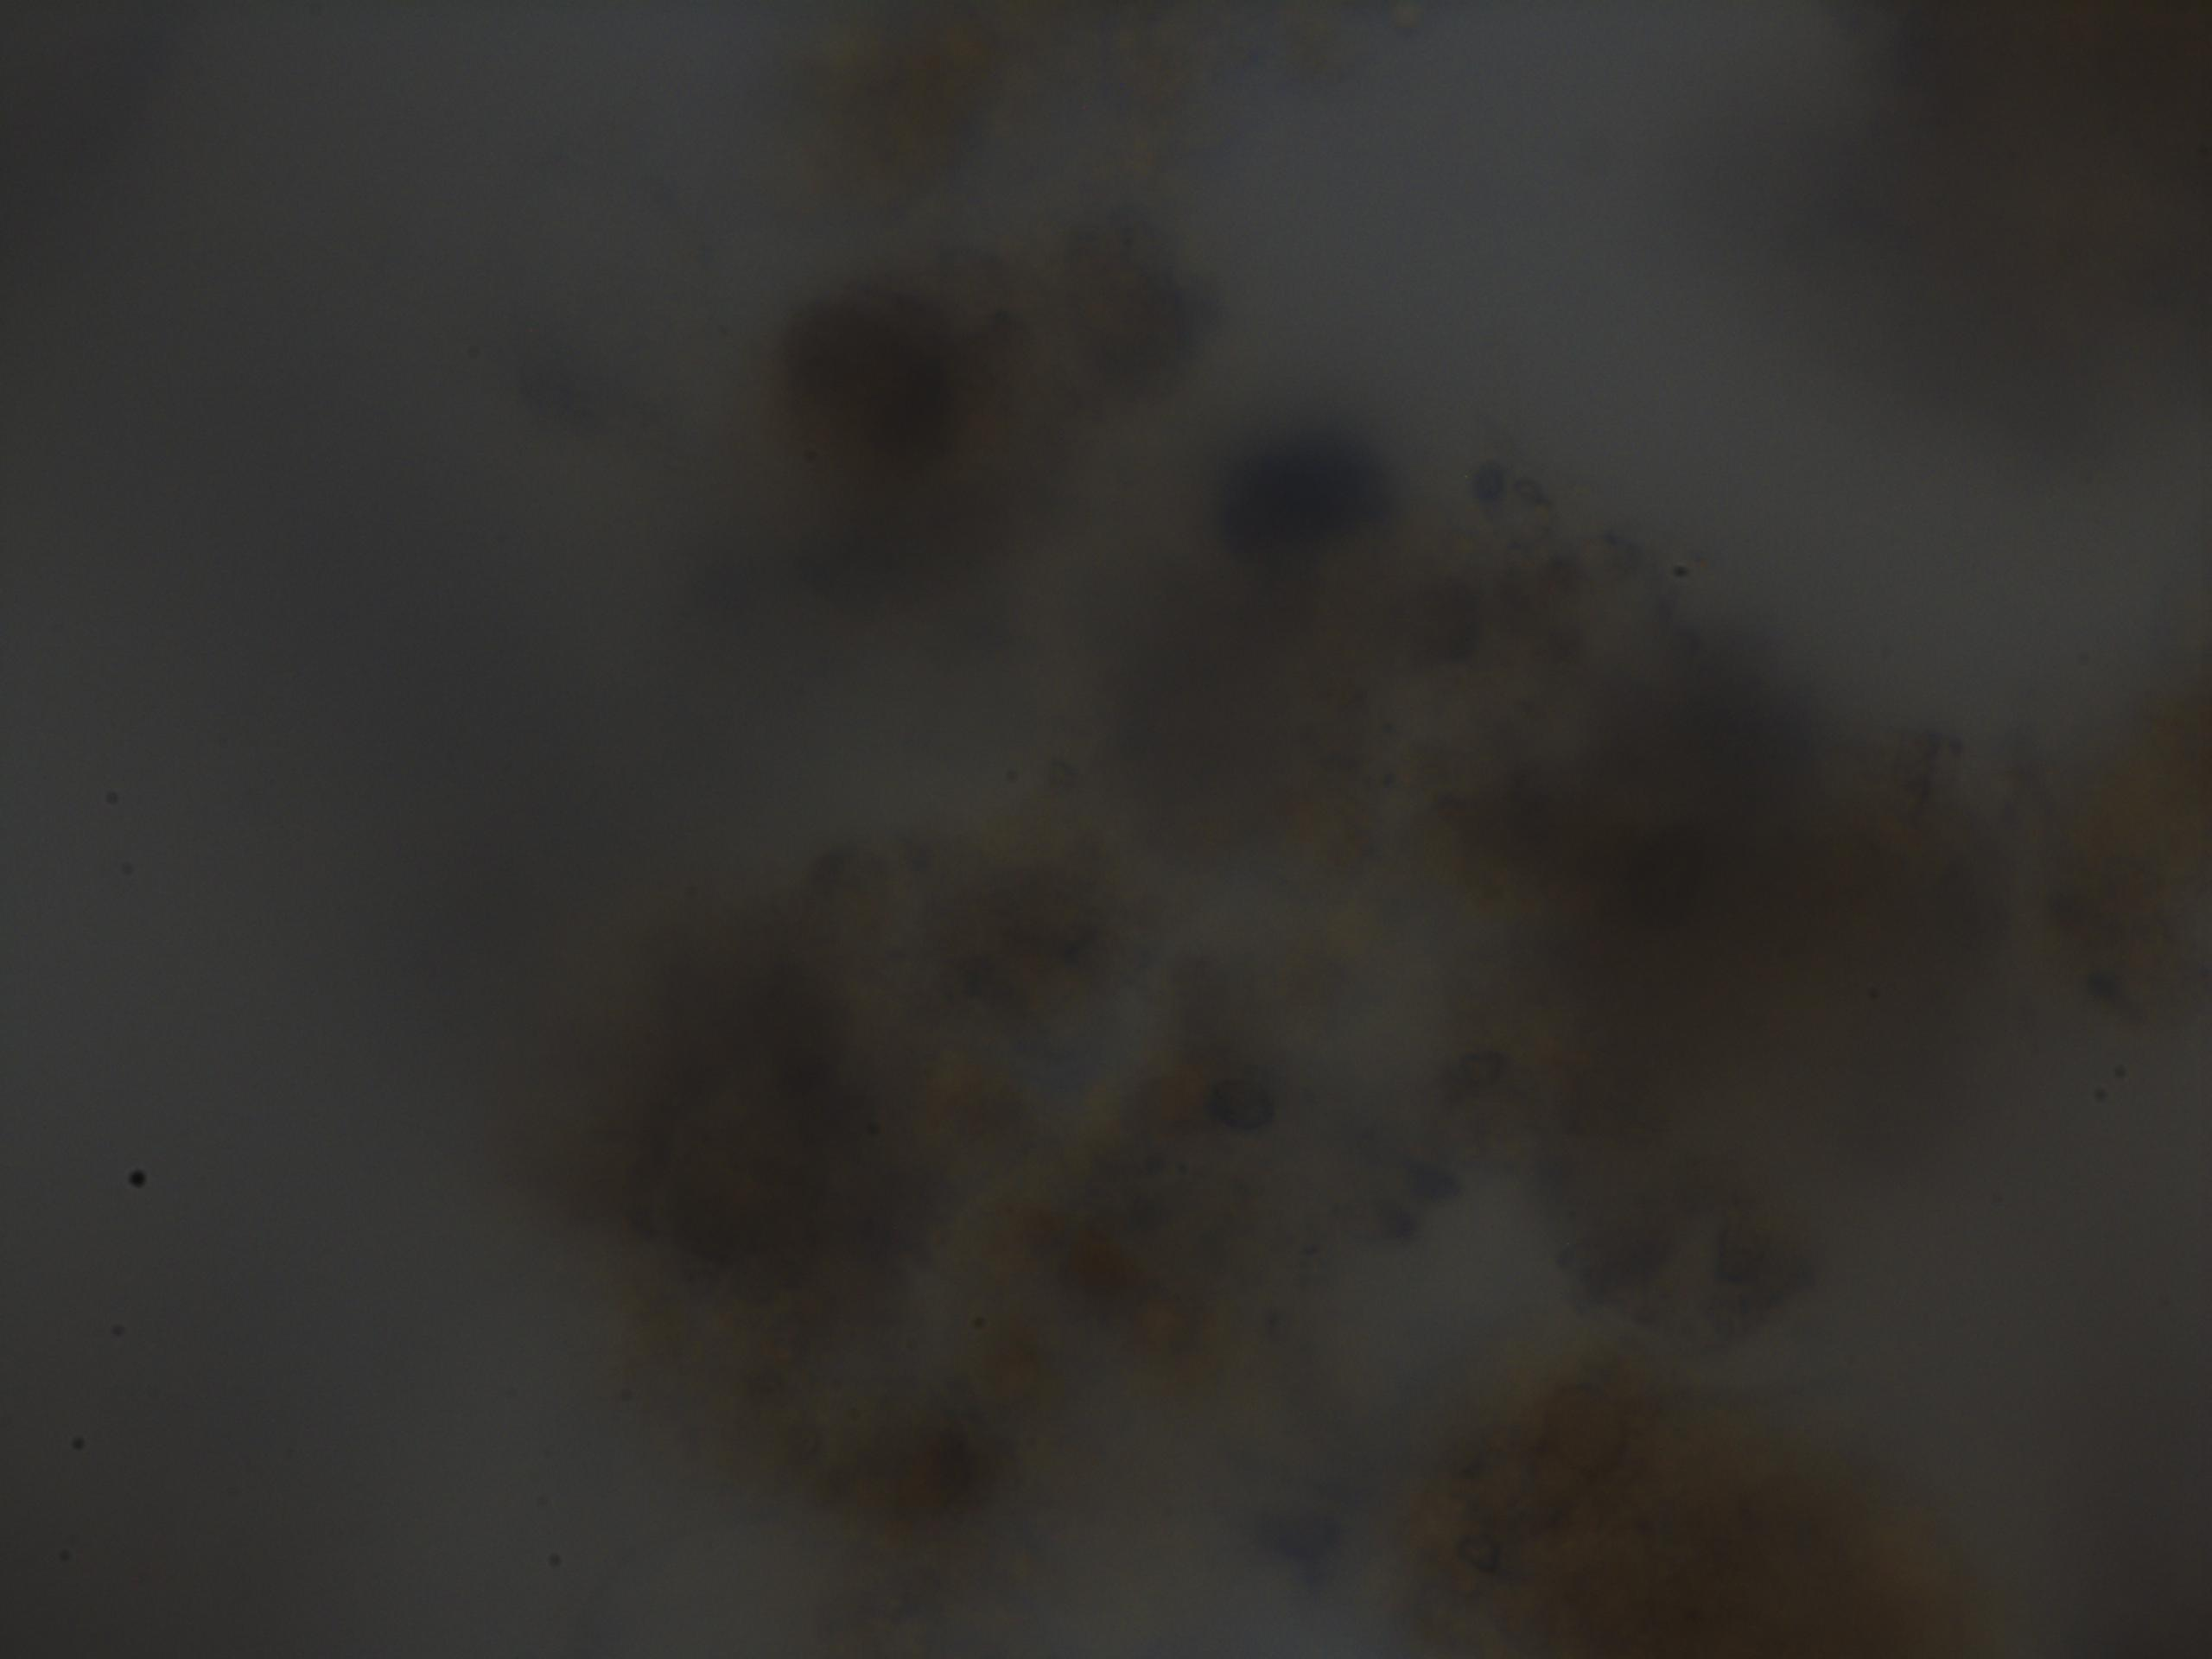open_floc: (556, 171, 2066, 1659)
